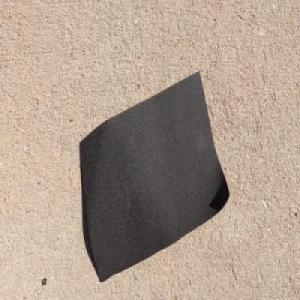PaintChip: (78, 69, 230, 284)
